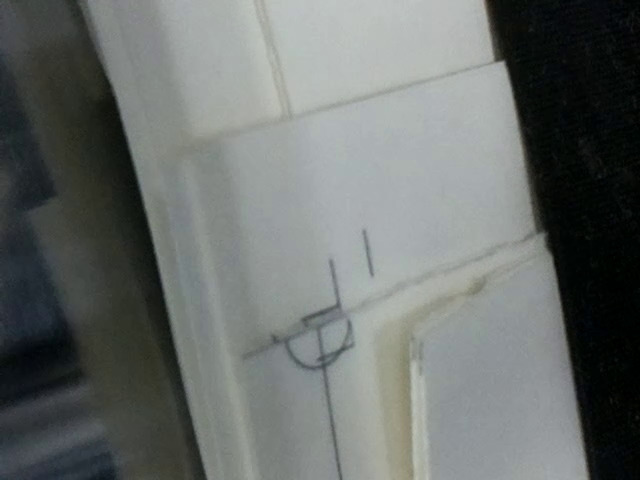misaligned: (256, 256, 384, 384)
